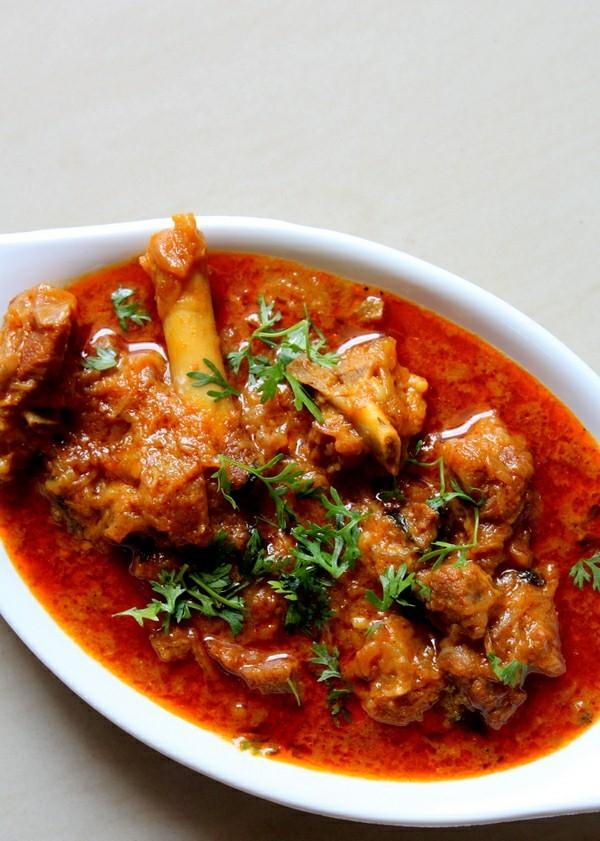MuttonCurry: (0, 215, 600, 779)
